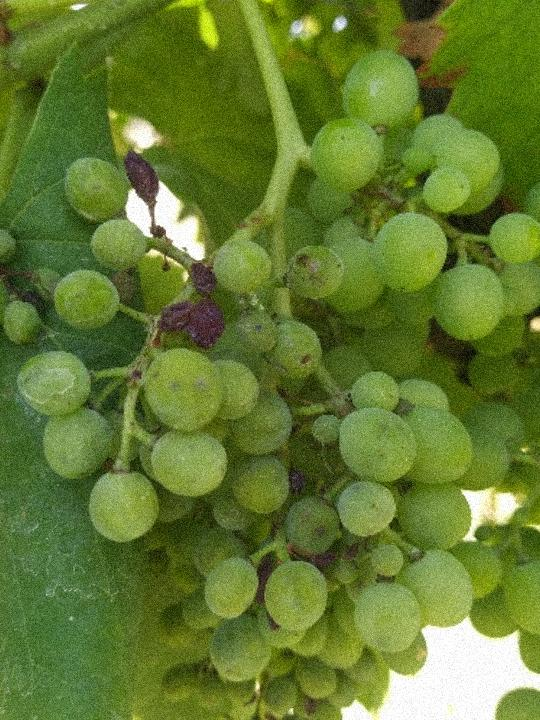grape: (13, 51, 540, 688)
